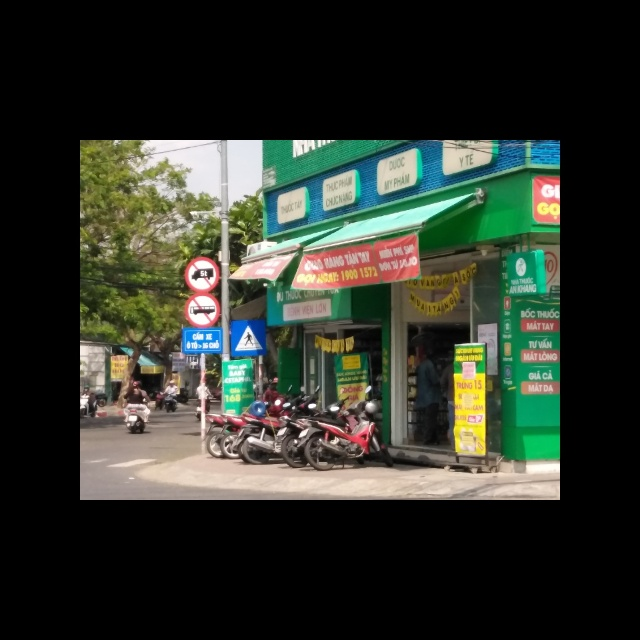Cấm xe tải: (185, 255, 222, 291)
Cấm xe xe khách: (183, 293, 220, 330)
Đường dành cho người đi bộ: (231, 319, 268, 356)
